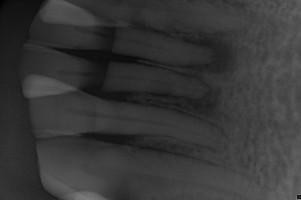Furcation Involvement: (183, 36, 236, 74), (185, 88, 223, 116)
